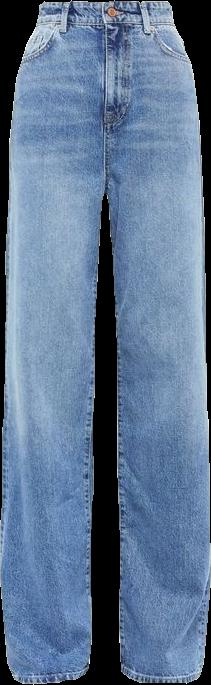Hemline: (117, 665, 202, 684), (11, 665, 91, 684)
Pantleg: (99, 0, 210, 682), (1, 2, 107, 682)
Waistline: (33, 18, 178, 31), (37, 0, 171, 11)
